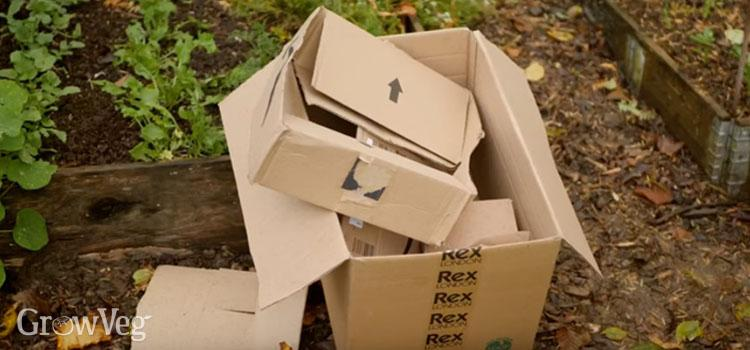cardboard: (221, 8, 590, 267), (322, 240, 559, 349), (131, 266, 306, 349), (322, 253, 440, 349)
